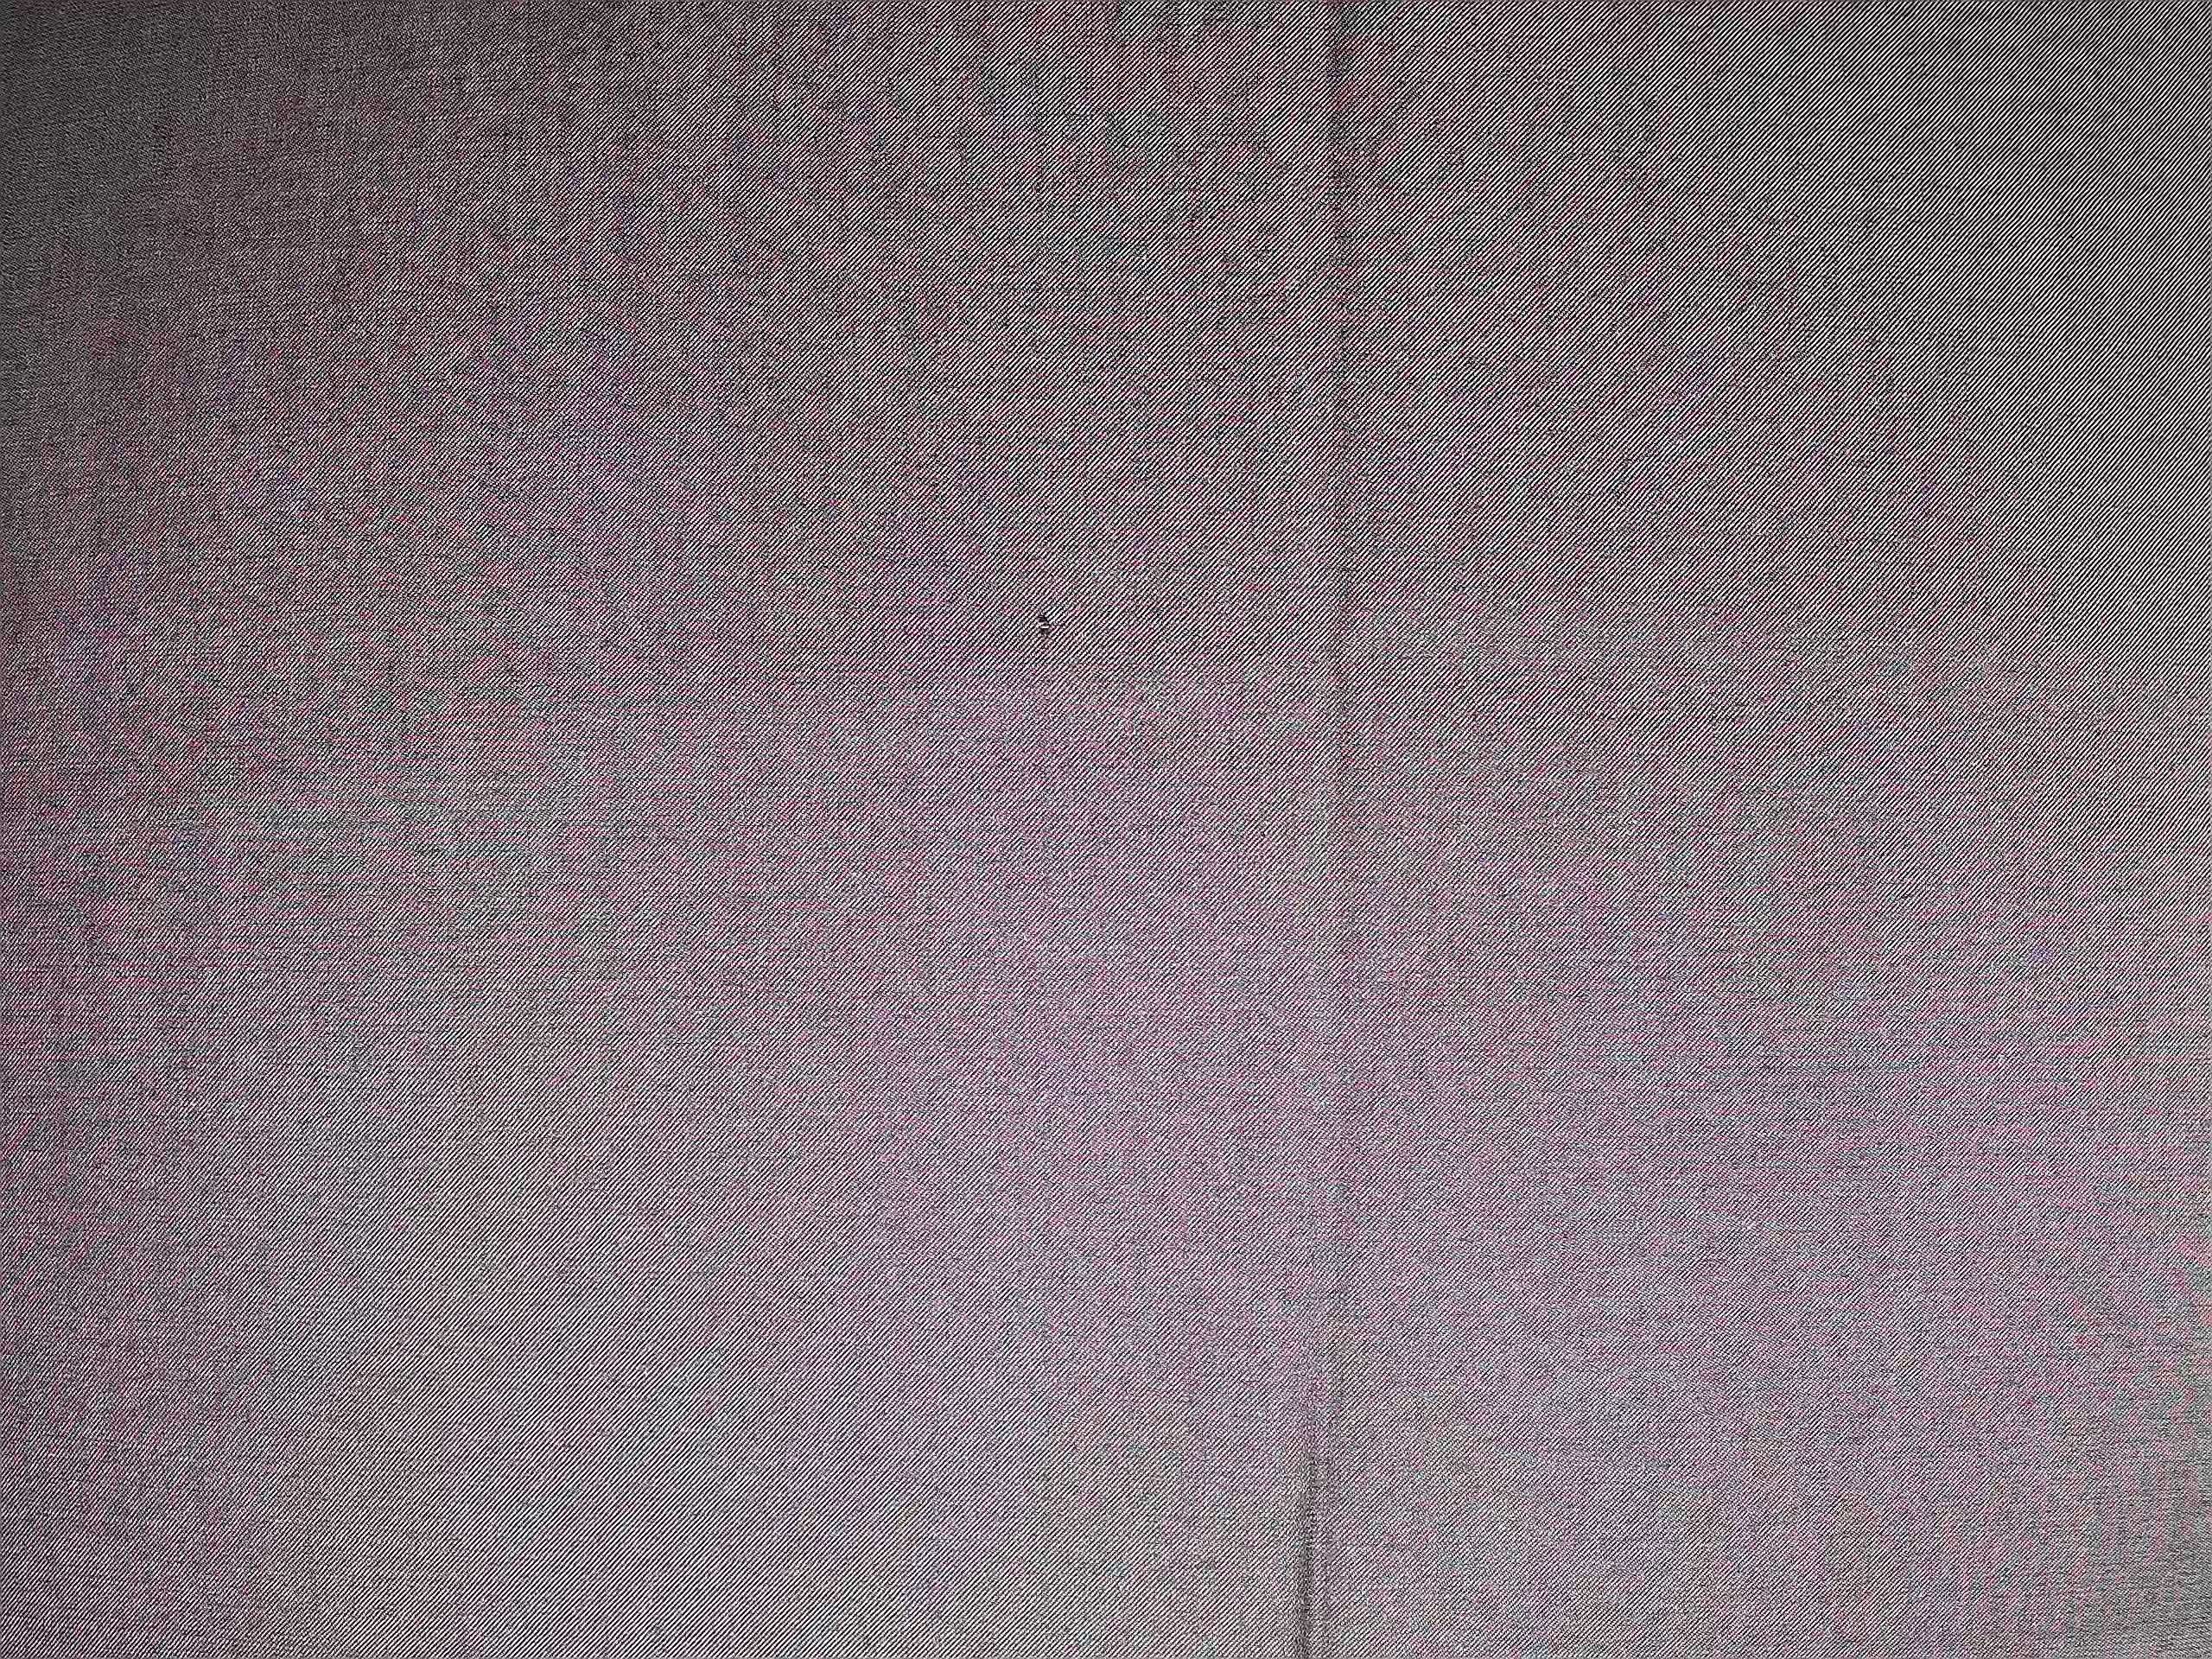others: (1012, 589, 1078, 655)
